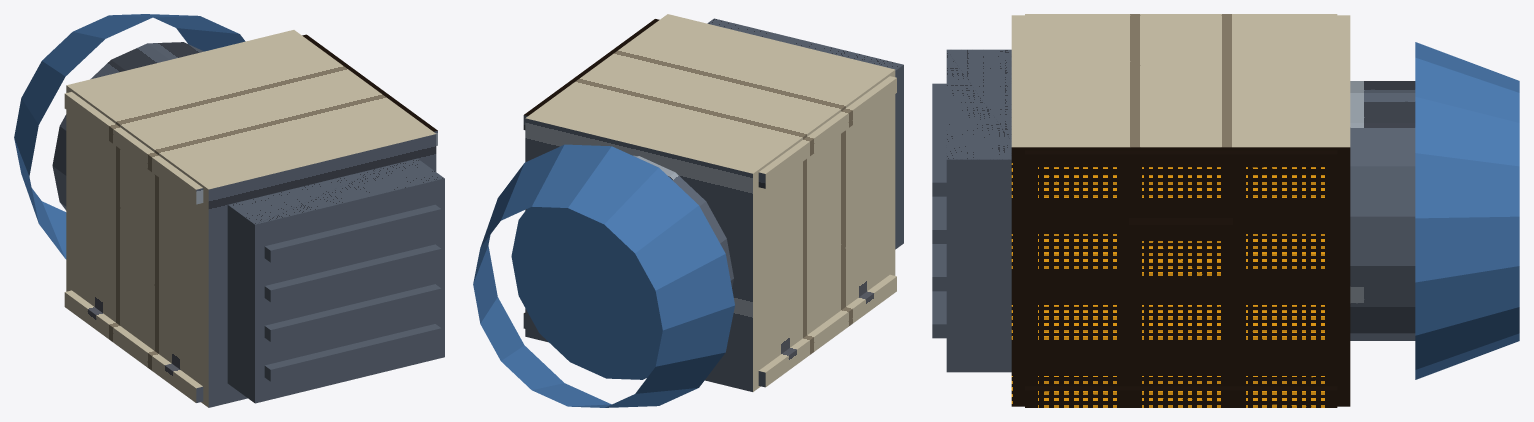
Rendered from sci_cam.glb.
3 renders of one model, left to right at view 1: azimuth 30°, elevation 25°; view 2: azimuth 150°, elevation 25°; view 3: azimuth 270°, elevation 25°, orthographic. The views are drawn at different scales.
Parts seen in each view (by area): view 1: sci_cam; view 2: sci_cam; view 3: sci_cam.
Boxes of the visible parts, x1,y1,x2,y2 form: sci_cam: (14,14,444,407); sci_cam: (473,14,903,407); sci_cam: (932,14,1519,407).
Size of the model in its own units: 0.2625 by 0.26 by 0.451.
Materials: 4 (3 with a texture image).
